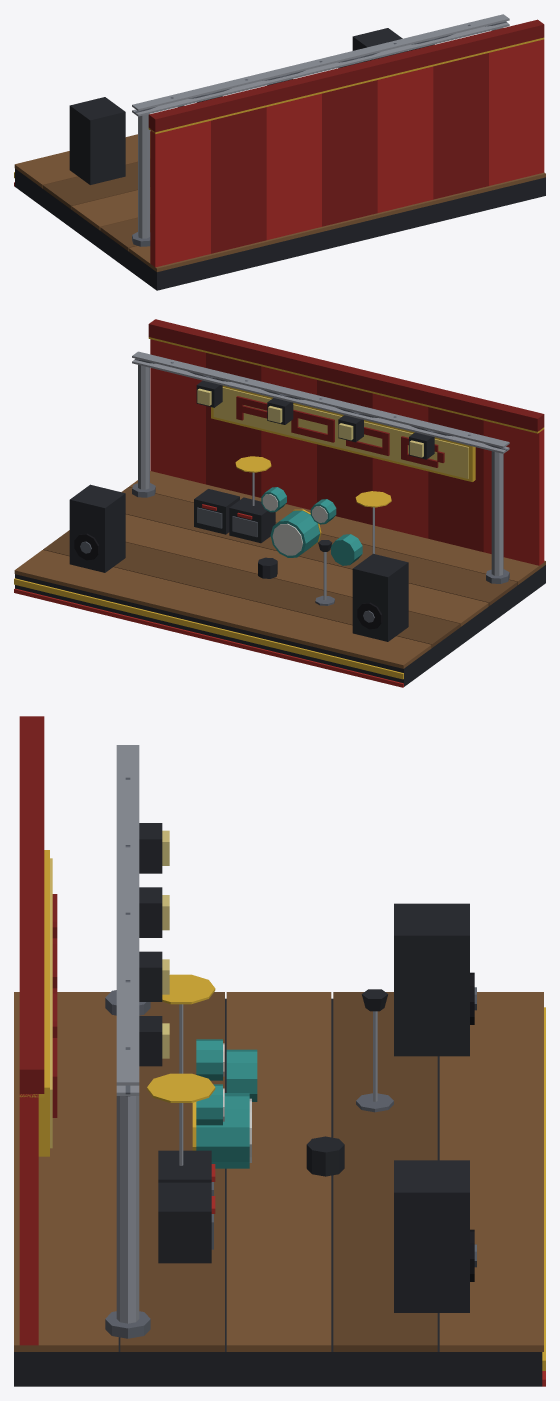
File: Decor_FoodTruck_Stage.fbx
3 views of the same model, one above another, from view 1: azimuth 30°, elevation 25°; view 2: azimuth 150°, elevation 25°; view 3: azimuth 270°, elevation 25° (orthographic). The views are drawn at different scales.
Visible parts, largest first — view 1: Stage_Body; view 2: Stage_Body; view 3: Stage_Body.
Boxes of the visible parts, x1,y1,x2,y2 form: Stage_Body: [14, 14, 545, 290]; Stage_Body: [14, 319, 545, 687]; Stage_Body: [14, 716, 545, 1386].
Size of the model in its own units: 22 by 9.2 by 14.
